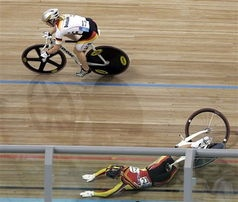falling: (76, 144, 181, 201)
